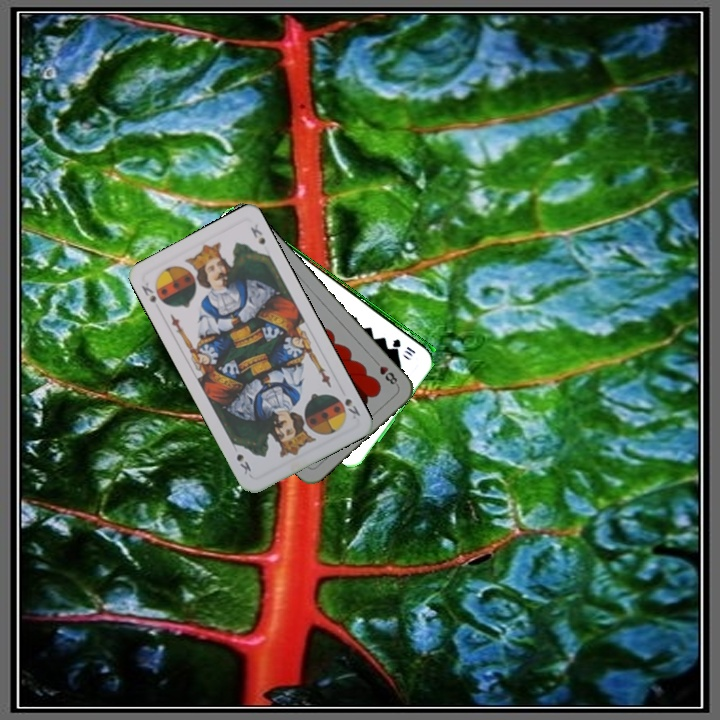G10: (389, 335, 418, 356)
H8: (370, 355, 401, 389)
SK: (332, 391, 363, 422), (137, 278, 168, 308)
